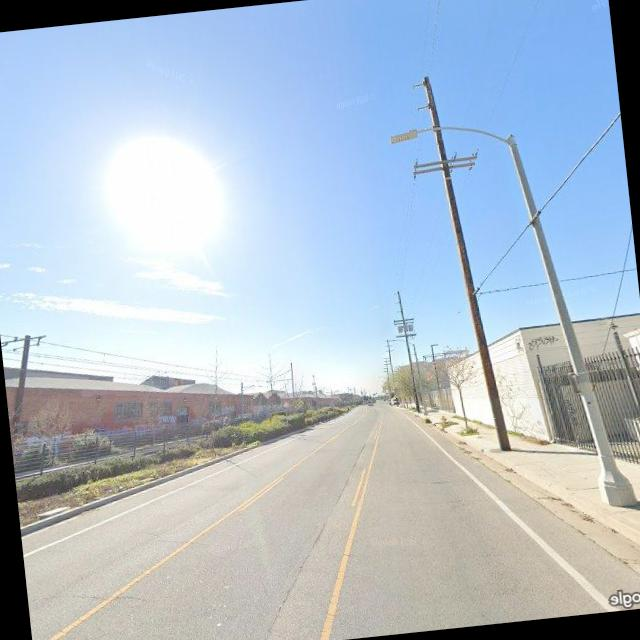crack: (29, 578, 158, 614)
